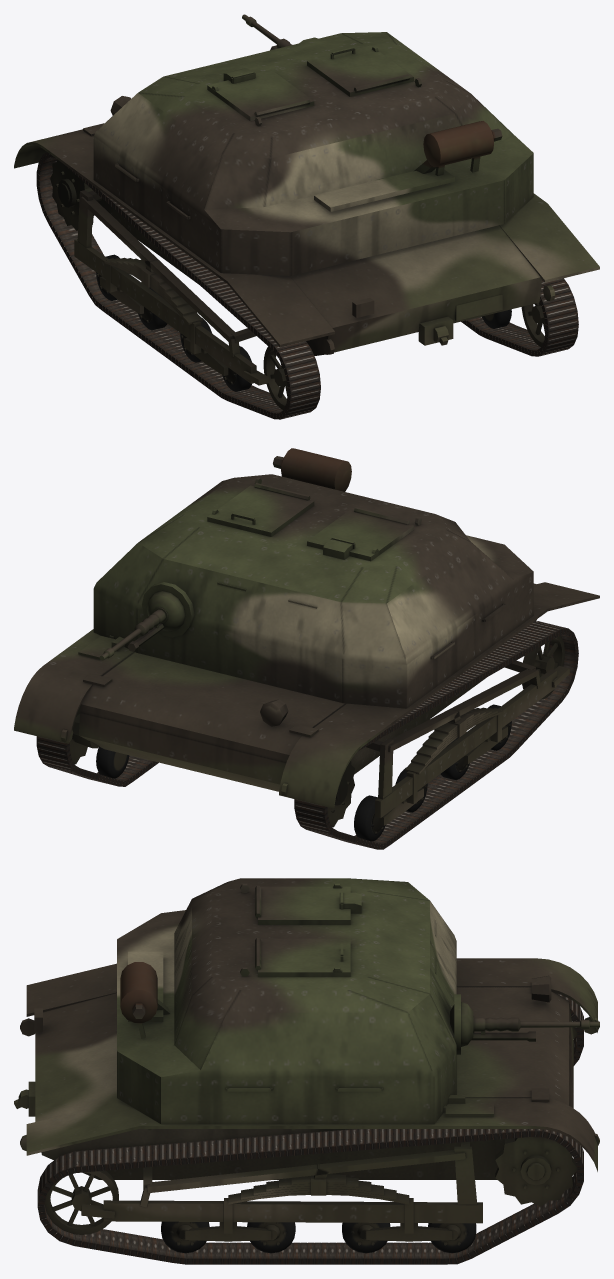
Rendered from TKS.fbx.
3 views of the same model, one above another, from view 1: azimuth 30°, elevation 25°; view 2: azimuth 150°, elevation 25°; view 3: azimuth 270°, elevation 25° (orthographic). The views are drawn at different scales.
Parts seen in each view (by area): view 1: Chassis, Chenille_Gauche_01, Chenille_Droite_01, Roue_G1, Roue_G6, Roue_D6; view 2: Chassis, Chenille_Gauche_01, Chenille_Droite_01, Tourelle_01, Roue_G6, Roue_G2, Roue_G1, Roue_D2, Canon_01; view 3: Chassis, Chenille_Droite_01, Roue_D1, Roue_D6, Canon_01, Roue_D5, Roue_D4, Roue_D3, Tourelle_01, Roue_D2, Axe_Canon_01, Chenille_Gauche_01.
Part boxes in pixels (bbox=[...]): Chassis: bbox=[14, 32, 599, 385]; Chenille_Gauche_01: bbox=[36, 152, 320, 419]; Chenille_Droite_01: bbox=[461, 278, 578, 356]; Roue_G1: bbox=[50, 159, 94, 230]; Roue_G6: bbox=[263, 346, 287, 409]; Roue_D6: bbox=[521, 302, 545, 346]; Chassis: bbox=[14, 448, 599, 825]; Chenille_Gauche_01: bbox=[294, 621, 578, 849]; Chenille_Droite_01: bbox=[36, 736, 158, 786]; Tourelle_01: bbox=[142, 582, 194, 637]; Roue_G6: bbox=[522, 635, 564, 699]; Roue_G2: bbox=[354, 795, 385, 841]; Roue_G1: bbox=[327, 760, 354, 827]; Roue_D2: bbox=[96, 746, 129, 778]; Canon_01: bbox=[99, 609, 165, 660]; Chassis: bbox=[14, 878, 599, 1241]; Chenille_Droite_01: bbox=[37, 1129, 583, 1264]; Roue_D1: bbox=[495, 1137, 577, 1206]; Roue_D6: bbox=[44, 1167, 118, 1234]; Canon_01: bbox=[474, 1017, 599, 1031]; Roue_D5: bbox=[161, 1221, 209, 1253]; Roue_D4: bbox=[247, 1222, 295, 1253]; Roue_D3: bbox=[342, 1222, 390, 1253]; Tourelle_01: bbox=[450, 994, 473, 1054]; Roue_D2: bbox=[428, 1223, 476, 1253]; Axe_Canon_01: bbox=[471, 1016, 535, 1041]; Chenille_Gauche_01: bbox=[557, 993, 583, 1065].
Bounding box in the file's own units: 180 × 266 × 133.
Materials: 3 (3 with a texture image).
